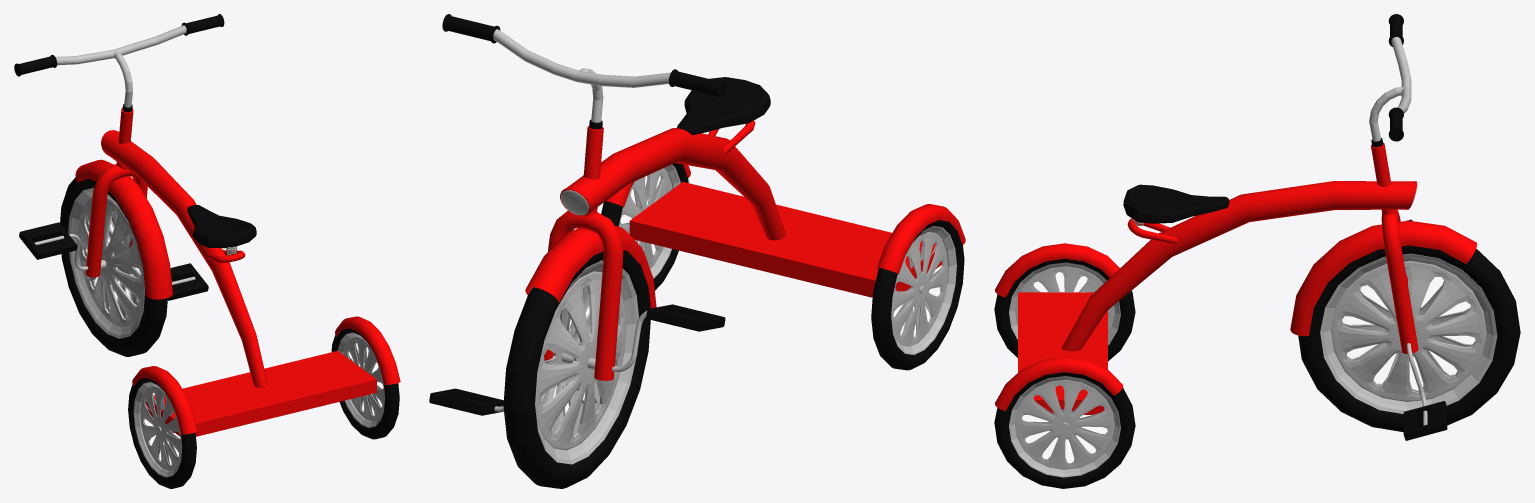
Rendered from tricycle.FBX.
The picture shows the model from 3 angles, left to right: view 1: azimuth 30°, elevation 25°; view 2: azimuth 150°, elevation 25°; view 3: azimuth 270°, elevation 25°; orthographic projection. The views are drawn at different scales.
Visible parts, largest first — view 1: Box001, Triciclo_nurbsCircle2nurbsCircle2, Triciclo_locato, Triciclo_locator5, Triciclo_pCylinder21, Triciclo_pCube4, Triciclo_locator6, Triciclo_pTorus5, Triciclo_pCylinder23, Triciclo_pTorus16, Triciclo_polySurf12, Triciclo_handleFrame (+5 smaller); view 2: Box001, Triciclo_locator5, Triciclo_nurbsCircle2nurbsCircle2, Triciclo_locato, Triciclo_pCylinder21, Triciclo_pTorus5, Triciclo_pCube4, Triciclo_locator6, Triciclo_handleFrame, Triciclo_pCylinder23, Triciclo_pTorus20, Triciclo_polySurf12 (+2 smaller); view 3: Box001, Triciclo_locato, Triciclo_nurbsCircle2nurbsCircle2, Triciclo_locator5, Triciclo_pCylinder23, Triciclo_locator6, Triciclo_pTorus16, Triciclo_pCube4, Triciclo_pTorus5, Triciclo_pTorus21, Triciclo_pCylinder21, Triciclo_pTorus1TR4 (+3 smaller).
Boxes of the visible parts, bbox=[...] form: Box001: bbox=[75, 108, 400, 436]; Triciclo_nurbsCircle2nurbsCircle2: bbox=[14, 14, 268, 388]; Triciclo_locato: bbox=[78, 198, 144, 328]; Triciclo_locator5: bbox=[60, 177, 167, 356]; Triciclo_pCylinder21: bbox=[140, 386, 182, 471]; Triciclo_pCube4: bbox=[187, 205, 256, 248]; Triciclo_locator6: bbox=[68, 188, 144, 338]; Triciclo_pTorus5: bbox=[128, 378, 196, 488]; Triciclo_pCylinder23: bbox=[343, 337, 384, 421]; Triciclo_pTorus16: bbox=[331, 328, 399, 439]; Triciclo_polySurf12: bbox=[19, 222, 77, 259]; Triciclo_handleFrame: bbox=[55, 25, 186, 65]; Box001: bbox=[525, 120, 965, 380]; Triciclo_locator5: bbox=[503, 250, 650, 488]; Triciclo_nurbsCircle2nurbsCircle2: bbox=[442, 14, 786, 240]; Triciclo_locato: bbox=[535, 271, 626, 450]; Triciclo_pCylinder21: bbox=[891, 232, 948, 346]; Triciclo_pTorus5: bbox=[871, 220, 964, 370]; Triciclo_pCube4: bbox=[677, 77, 770, 135]; Triciclo_locator6: bbox=[535, 260, 638, 464]; Triciclo_handleFrame: bbox=[493, 29, 670, 87]; Triciclo_pCylinder23: bbox=[618, 168, 672, 268]; Triciclo_pTorus20: bbox=[892, 226, 956, 354]; Triciclo_polySurf12: bbox=[646, 304, 725, 331]; Box001: bbox=[995, 142, 1476, 414]; Triciclo_locato: bbox=[1331, 261, 1486, 401]; Triciclo_nurbsCircle2nurbsCircle2: bbox=[1061, 14, 1416, 351]; Triciclo_locator5: bbox=[1298, 245, 1520, 432]; Triciclo_pCylinder23: bbox=[1015, 379, 1114, 469]; Triciclo_locator6: bbox=[1320, 253, 1497, 413]; Triciclo_pTorus16: bbox=[994, 372, 1135, 488]; Triciclo_pCube4: bbox=[1123, 184, 1229, 223]; Triciclo_pTorus5: bbox=[994, 258, 1135, 361]; Triciclo_pTorus21: bbox=[1009, 376, 1120, 477]; Triciclo_pCylinder21: bbox=[1015, 266, 1114, 332]; Triciclo_pTorus1TR4: bbox=[1403, 401, 1447, 440].
Bounding box in the file's own units: 8.13 × 11.22 × 14.83.
